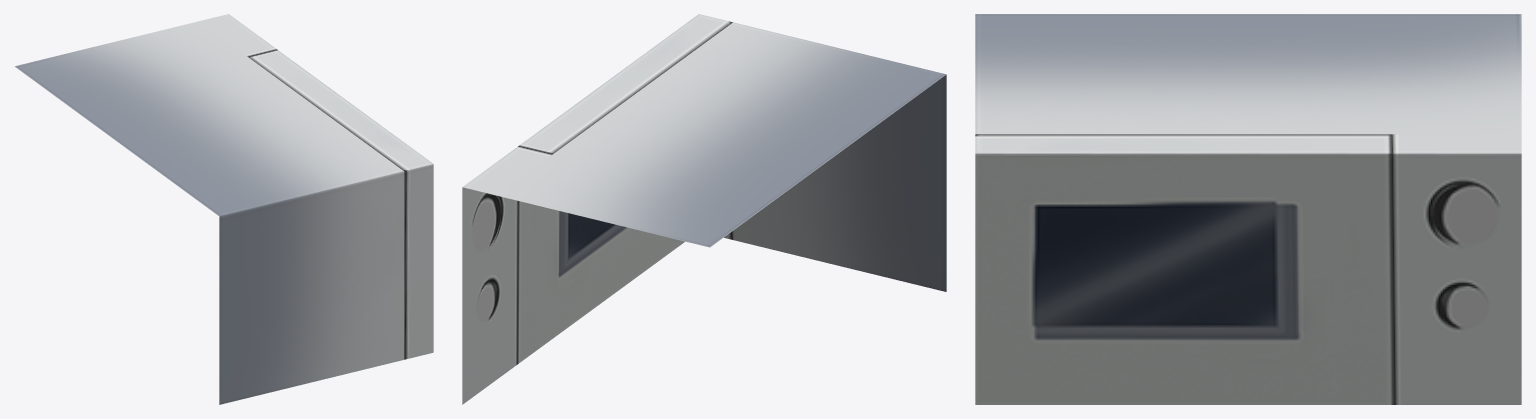
File: Tx_props_microwave_56.fbx
The picture shows the model from 3 angles, left to right: view 1: azimuth 30°, elevation 25°; view 2: azimuth 150°, elevation 25°; view 3: azimuth 270°, elevation 25°; orthographic projection. The views are drawn at different scales.
Parts seen in each view (by area): view 1: Tx_props_microwave_7; view 2: Tx_props_microwave_7; view 3: Tx_props_microwave_7.
Part boxes in pixels (bbox=[...]): Tx_props_microwave_7: bbox=[14, 14, 433, 404]; Tx_props_microwave_7: bbox=[462, 14, 946, 404]; Tx_props_microwave_7: bbox=[975, 14, 1521, 404].
Bounding box in the file's own units: 2.81 × 2.36 × 4.65.
